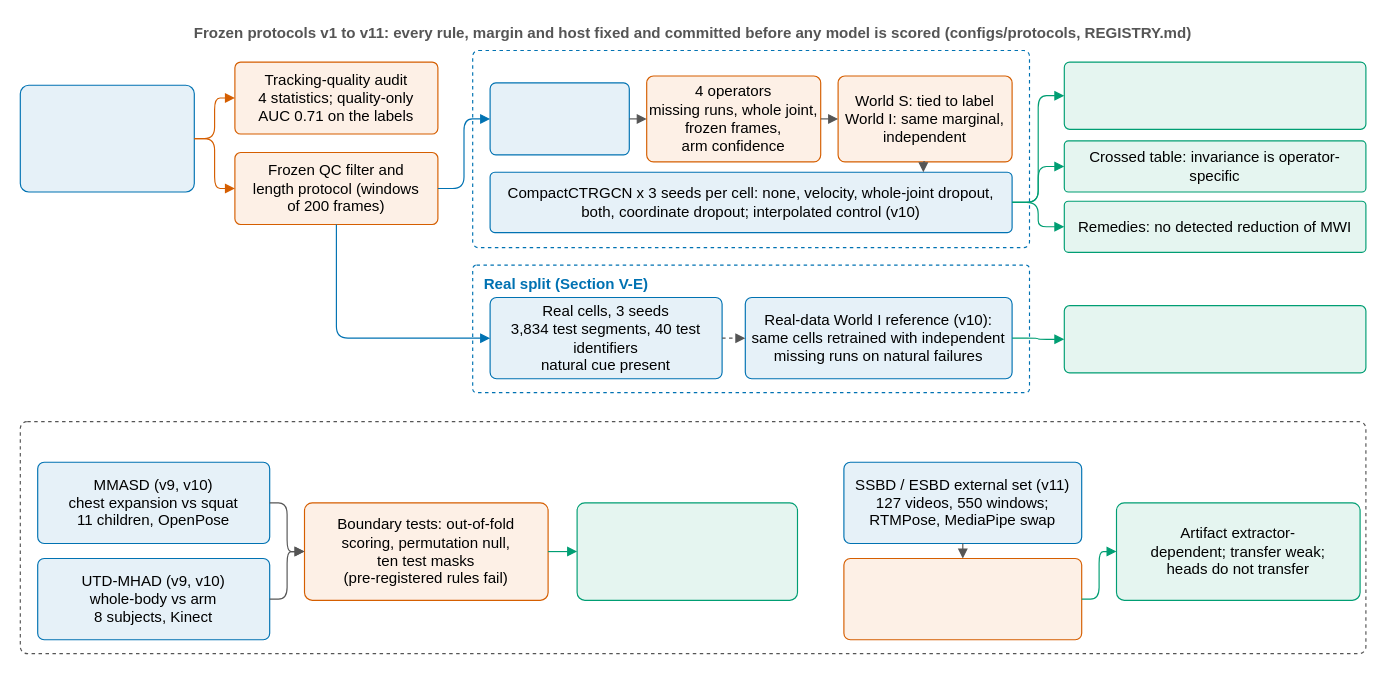
The diagram is 1386 pixels wide and 674 high, and some of its shapes have lost their labels. Here are the shapes that lost their labels. From the top down, the box of each, then its label:
(1063, 61, 1366, 129): Matched-world interaction MWI = R(f_S) - R(f_I) mask mean, seed SD, mask range
(19, 84, 194, 192): ASDPose release 36,928 segments 329 released subject IDs COCO-17 + confidence
(489, 82, 629, 155): Host: QC-pass segments weak natural cue (0.57)
(472, 49, 1030, 248): Planted worlds on the QC host (Sections III to V)
(1063, 304, 1366, 373): Real models: responses relative to the reference; reliance not identified
(576, 502, 798, 600): Contrast needs a stable reference and more subjects than 8 to 11
(19, 420, 1366, 654): Beyond ASDPose
(843, 557, 1082, 640): Transfer, confidence zeroed, head refit, calibration, position, label noise
